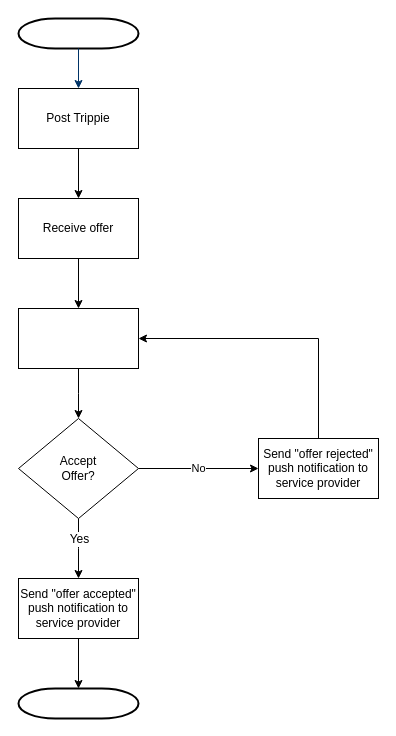
The diagram is 396 pixels wide and 736 high, and some of its shapes have lost their labels. Here are the shapes that lost their labels. From the top down, the box of each, then its label:
(17, 17, 139, 49): start
(18, 308, 138, 368): View offers
(17, 687, 139, 719): end
